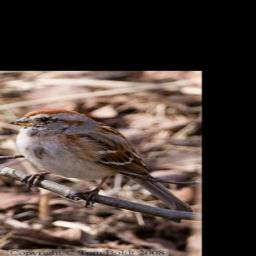Sparrow: (7, 106, 196, 224)
